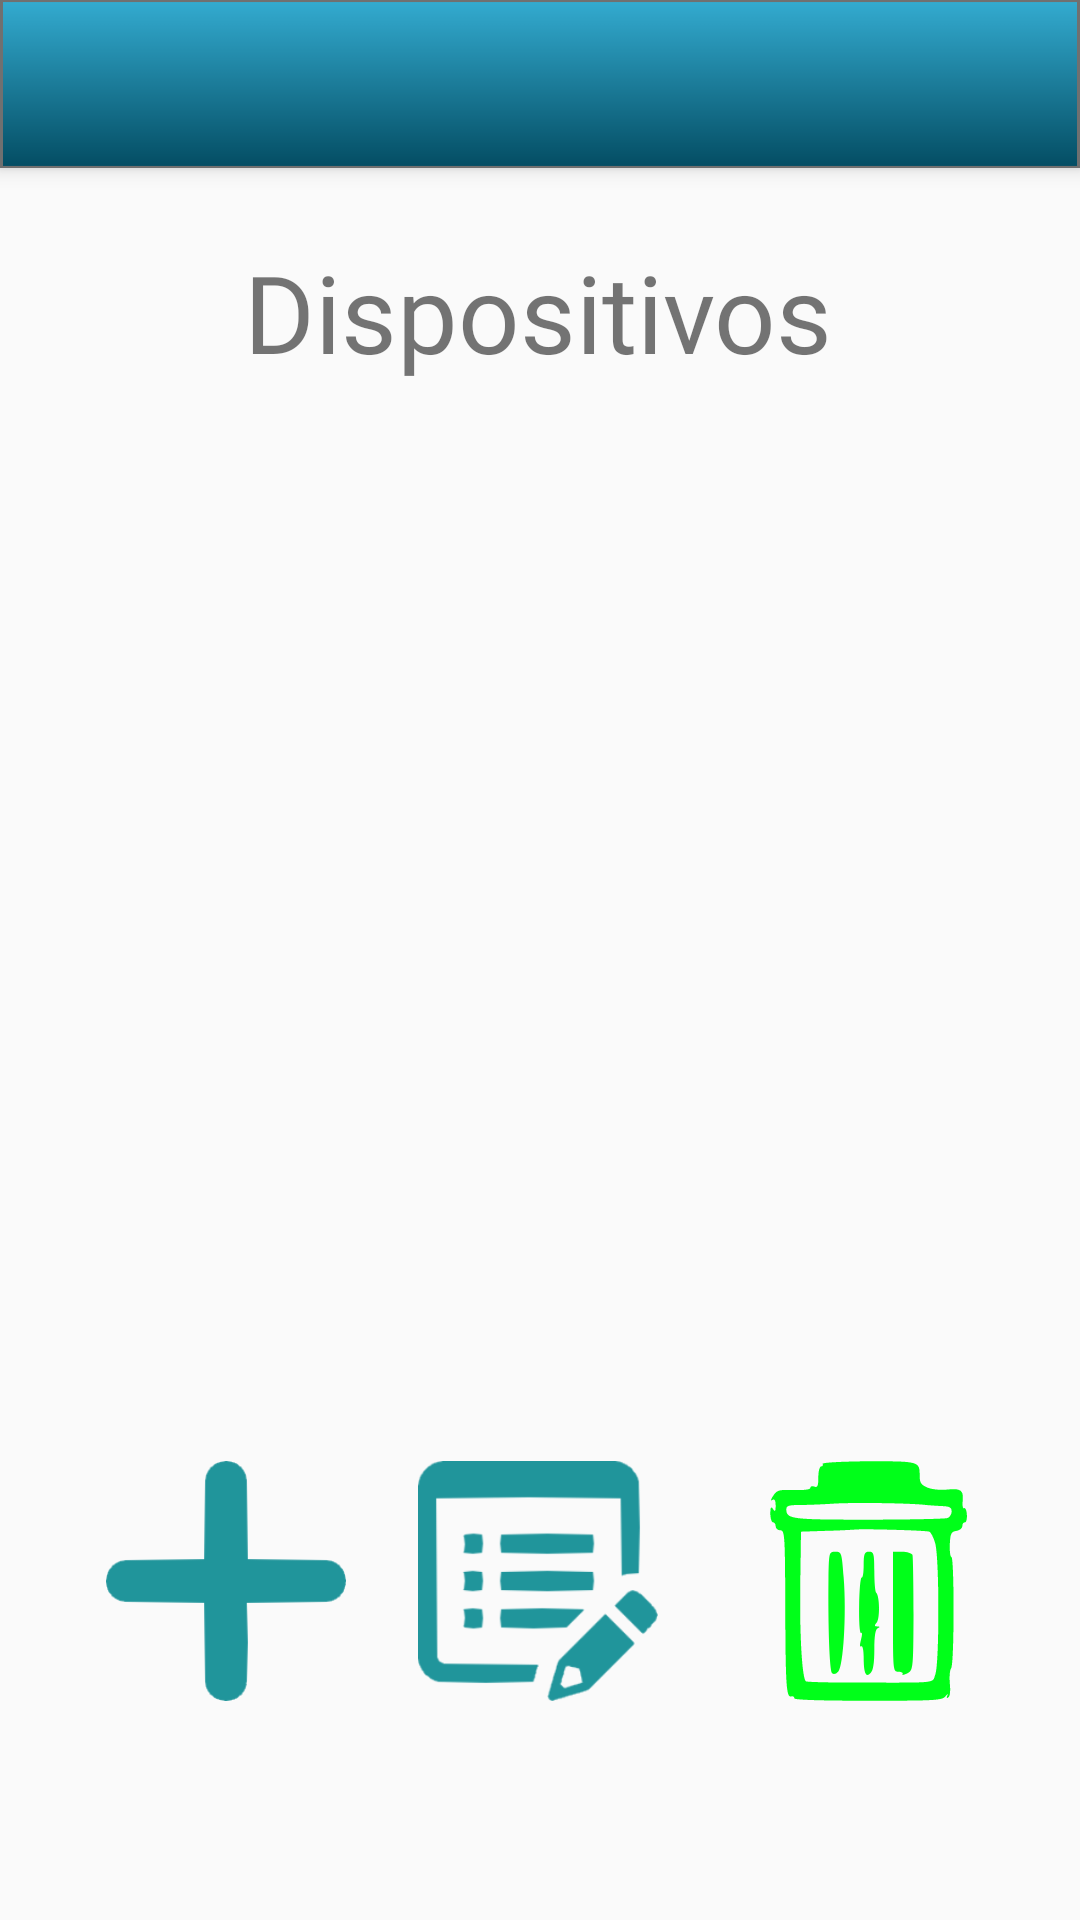

Where to tap for icons on this 1080x1920 app screen, as (x=x, y=y):
add: (x=226, y=1581)
delete select: (x=868, y=1581)
edit no select: (x=538, y=1581)
